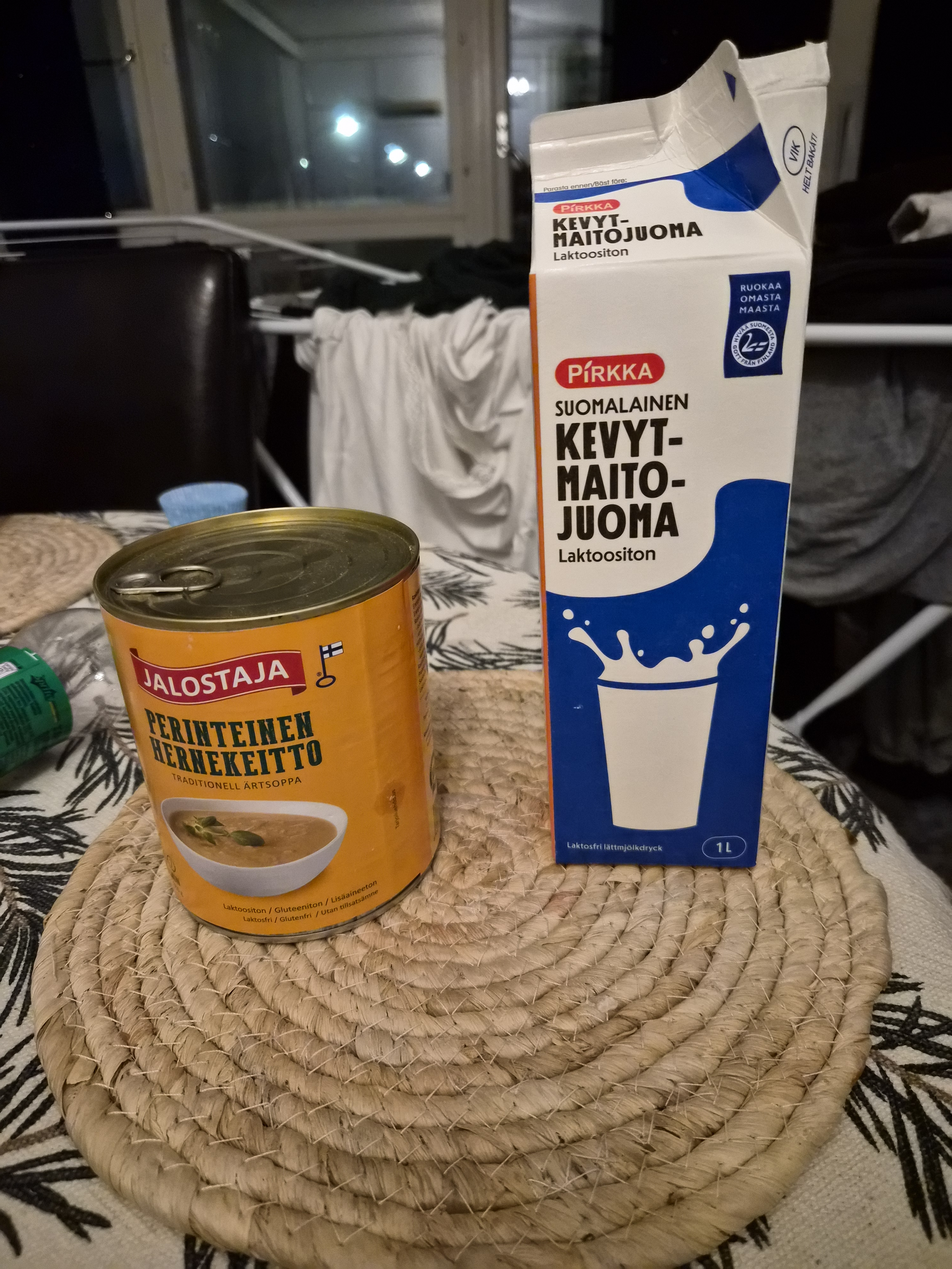Dryckeskartong: (532, 38, 825, 878)
Konservburk: (77, 501, 443, 950)
